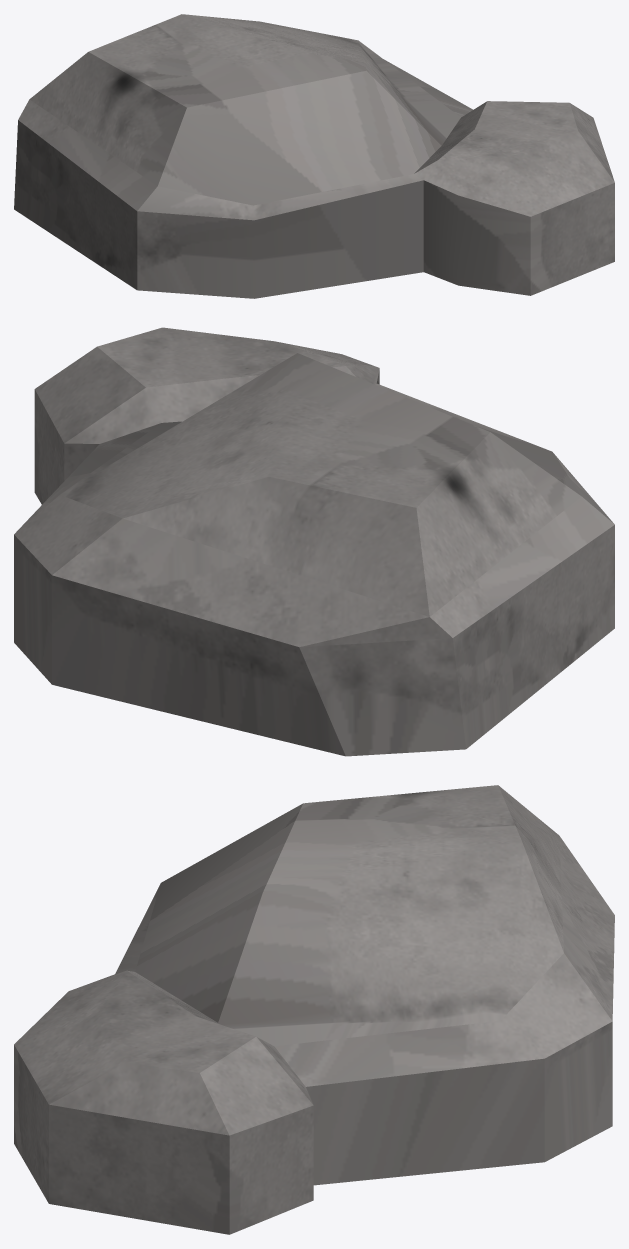
The model's file is petite pierre 6.fbx.
The picture shows the model from 3 angles, top to bottom: view 1: azimuth 30°, elevation 25°; view 2: azimuth 150°, elevation 25°; view 3: azimuth 270°, elevation 25°; orthographic projection. The views are drawn at different scales.
Visible parts, largest first — view 1: Cube.012; view 2: Cube.012; view 3: Cube.012.
Boxes of the visible parts, left/top/right/bottom form: Cube.012: left=14, top=14, right=614, bottom=298; Cube.012: left=14, top=327, right=614, bottom=756; Cube.012: left=14, top=785, right=614, bottom=1234.
Size of the model in its own units: 77.65 by 27.72 by 70.84.
